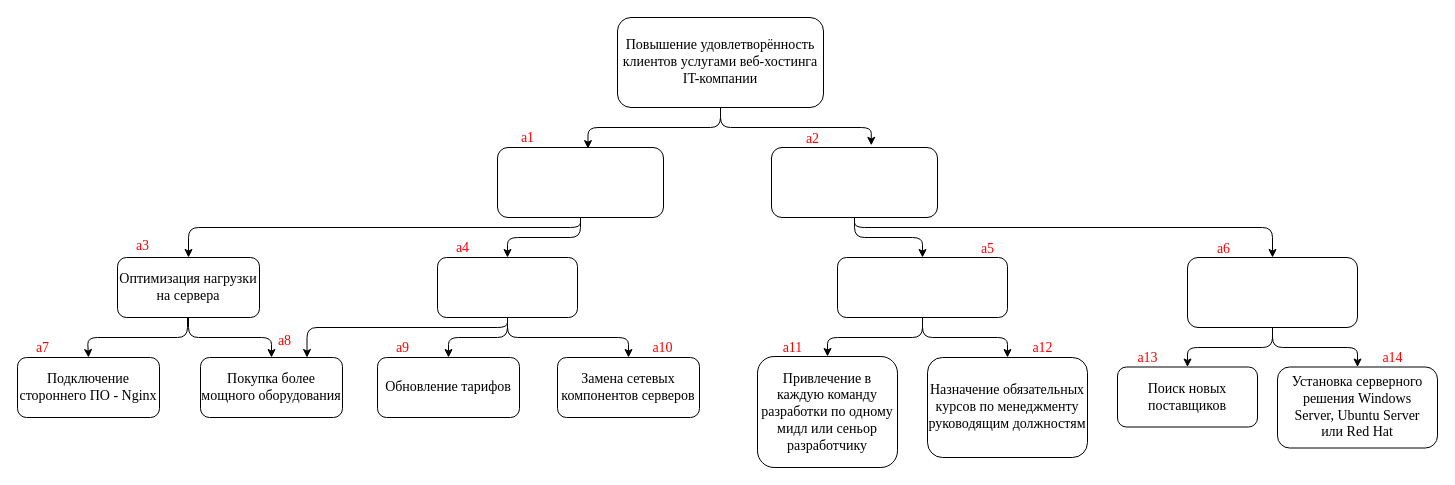
Some shapes in this 1455 by 485 pixel diagram are drawn without their labels. Each missing label, with the centre of its shape:
"Внедрение современных технологий" belongs at point (1272, 292).
"Оптимизация процесса исправления ошибок" belongs at point (854, 182).
"Повышения качества работы персонала" belongs at point (922, 287).
"Увеличение пропускной способности сети" belongs at point (507, 287).
"Увеличение частоты проведения сетевых диагностик" belongs at point (580, 182).
